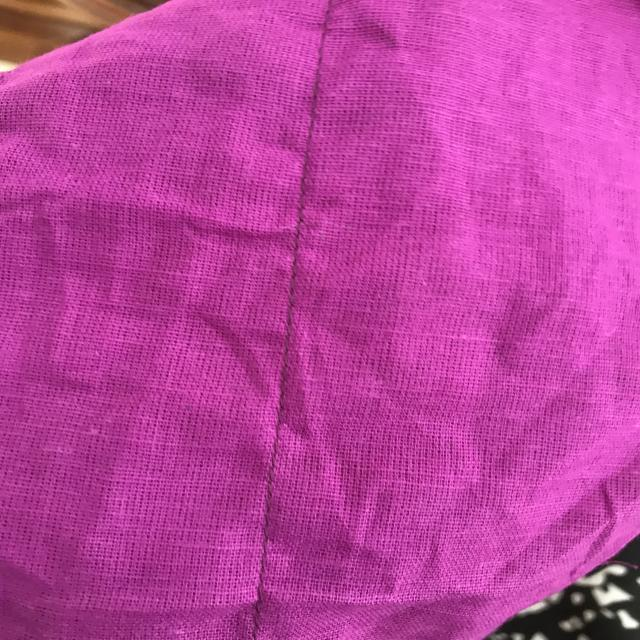good: (270, 322, 316, 411), (236, 541, 288, 601), (285, 214, 314, 298), (264, 438, 285, 504)
